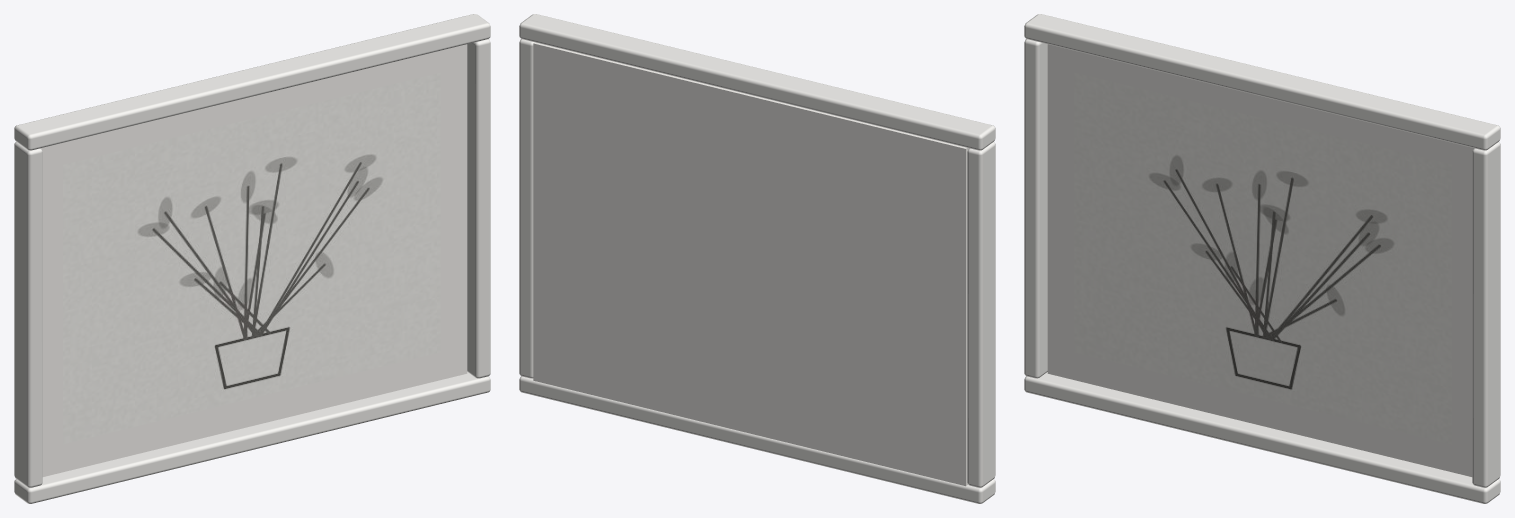
Rendered from picture_frame_sketch.glb.
The picture shows the model from 3 angles, left to right: view 1: azimuth 30°, elevation 25°; view 2: azimuth 150°, elevation 25°; view 3: azimuth 330°, elevation 25°; orthographic projection.
Parts seen in each view (by area): view 1: picture_frame_sketch_art, picture_frame_sketch_frame, picture_frame_sketch_mat; view 2: picture_frame_sketch_mat, picture_frame_sketch_frame; view 3: picture_frame_sketch_art, picture_frame_sketch_frame, picture_frame_sketch_mat.
Part boxes in pixels (x1,y1,x2,y2): picture_frame_sketch_art: (63, 72, 440, 444); picture_frame_sketch_frame: (14, 14, 490, 503); picture_frame_sketch_mat: (41, 44, 467, 476); picture_frame_sketch_mat: (533, 42, 968, 486); picture_frame_sketch_frame: (519, 14, 995, 503); picture_frame_sketch_art: (1074, 72, 1451, 444); picture_frame_sketch_frame: (1024, 14, 1500, 503); picture_frame_sketch_mat: (1047, 44, 1473, 476).
Bounding box in the file's own units: 0.42 × 0.32 × 0.025.
Materials: 3 (1 with a texture image).
